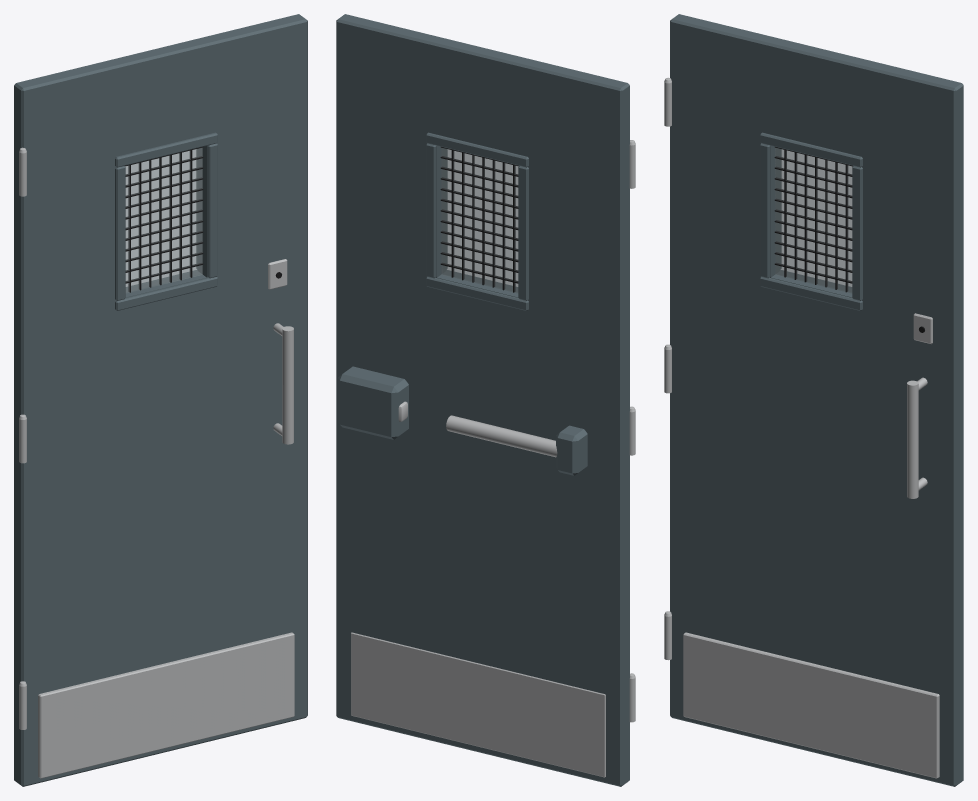
File: DoorSteel.fbx
3 views of the same model, side by side, from view 1: azimuth 30°, elevation 25°; view 2: azimuth 150°, elevation 25°; view 3: azimuth 330°, elevation 25° (orthographic).
Visible parts, largest first — view 1: DoorSteel_Mesh; view 2: DoorSteel_Mesh; view 3: DoorSteel_Mesh.
Boxes of the visible parts, left/top/right/bottom form: DoorSteel_Mesh: left=14, top=14, right=307, bottom=786; DoorSteel_Mesh: left=336, top=14, right=635, bottom=786; DoorSteel_Mesh: left=664, top=14, right=963, bottom=786.
Bounding box in the file's own units: 0.911 × 2.1 × 0.211.
